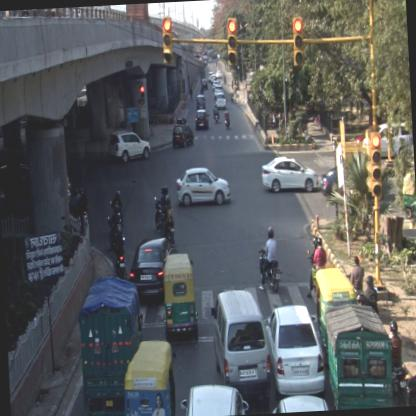car: (210, 288, 272, 394), (262, 301, 324, 396), (127, 233, 180, 300), (174, 167, 230, 210), (178, 384, 250, 415), (259, 155, 318, 192), (109, 132, 151, 161), (170, 122, 194, 150), (195, 107, 210, 130), (214, 91, 226, 111), (196, 94, 206, 108), (200, 76, 208, 90), (215, 66, 223, 78)
motorcycle: (387, 320, 409, 404), (303, 235, 326, 302), (256, 230, 280, 293), (112, 221, 126, 276), (162, 194, 176, 245), (211, 104, 219, 124), (224, 107, 230, 126)
truck: (77, 276, 143, 415), (324, 298, 392, 410)
